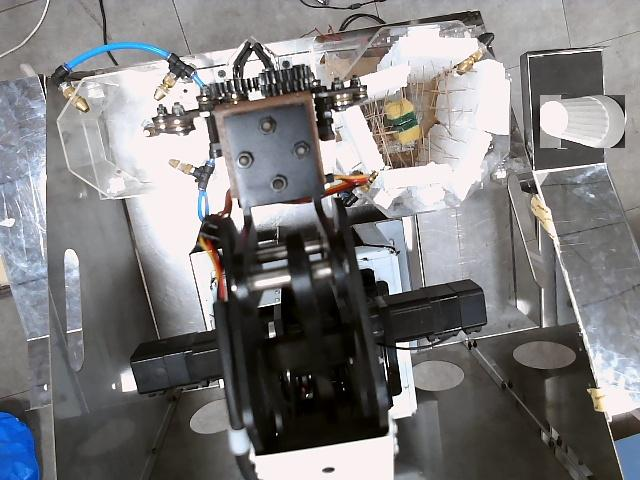cup: (540, 95, 625, 148)
